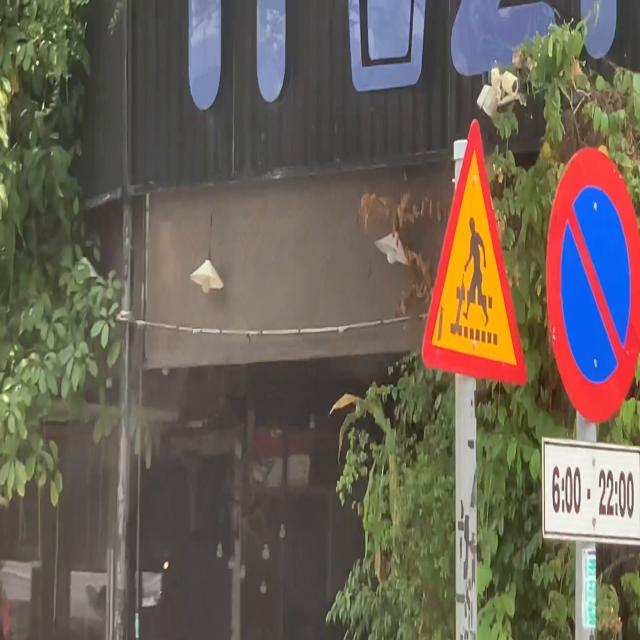Cam do: (545, 144, 640, 427)
Nguoi di bo cat ngang: (420, 114, 529, 388)
